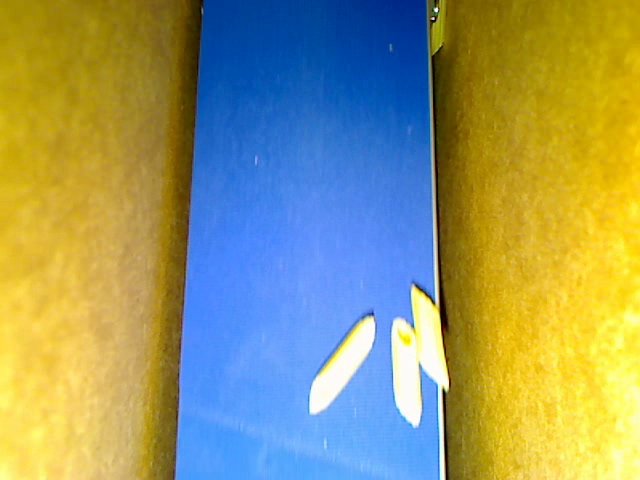penne: (308, 311, 379, 414), (409, 283, 451, 392), (390, 317, 424, 431), (427, 1, 448, 57)
